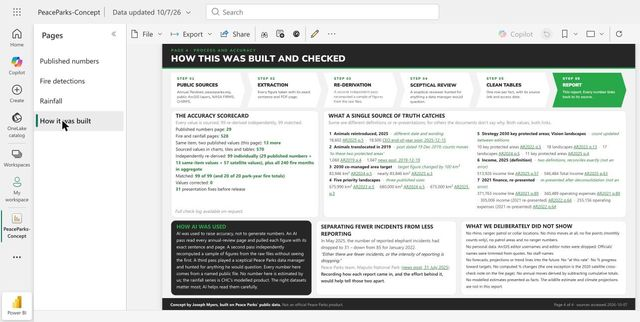

What the dashboard file says about the page in this screenshot:
{"tool":"powerbi","page":{"name":"How it was built","canvas":[1280,720],"ordinal":3},"visuals":[{"type":"textbox","box":[32,184,384,256],"z":4001},{"type":"textbox","box":[32,442,384,22],"z":4002},{"type":"textbox","box":[448,184,796,46],"z":4003},{"type":"textbox","box":[448,232,396,234],"z":4004},{"type":"textbox","box":[848,232,396,234],"z":4005},{"type":"textbox","box":[32,482,364,194],"z":4006},{"type":"textbox","box":[424,482,364,194],"z":4007},{"type":"textbox","box":[816,480,432,198],"z":4008},{"type":"textbox","box":[0,688,860,32],"z":4900},{"type":"textbox","box":[860,688,420,32],"z":4901}]}

Visuals, with their boxes on the page's 1280x720 design canvas (x1, y1, x2, y2). These are canvas units, not pixel positions in the 640x322 screenshot, which may show the page scaled, cropped or inside an application window:
textbox: crop(32, 184, 416, 440)
textbox: crop(32, 442, 416, 464)
textbox: crop(448, 184, 1244, 230)
textbox: crop(448, 232, 844, 466)
textbox: crop(848, 232, 1244, 466)
textbox: crop(32, 482, 396, 676)
textbox: crop(424, 482, 788, 676)
textbox: crop(816, 480, 1248, 678)
textbox: crop(0, 688, 860, 720)
textbox: crop(860, 688, 1280, 720)
